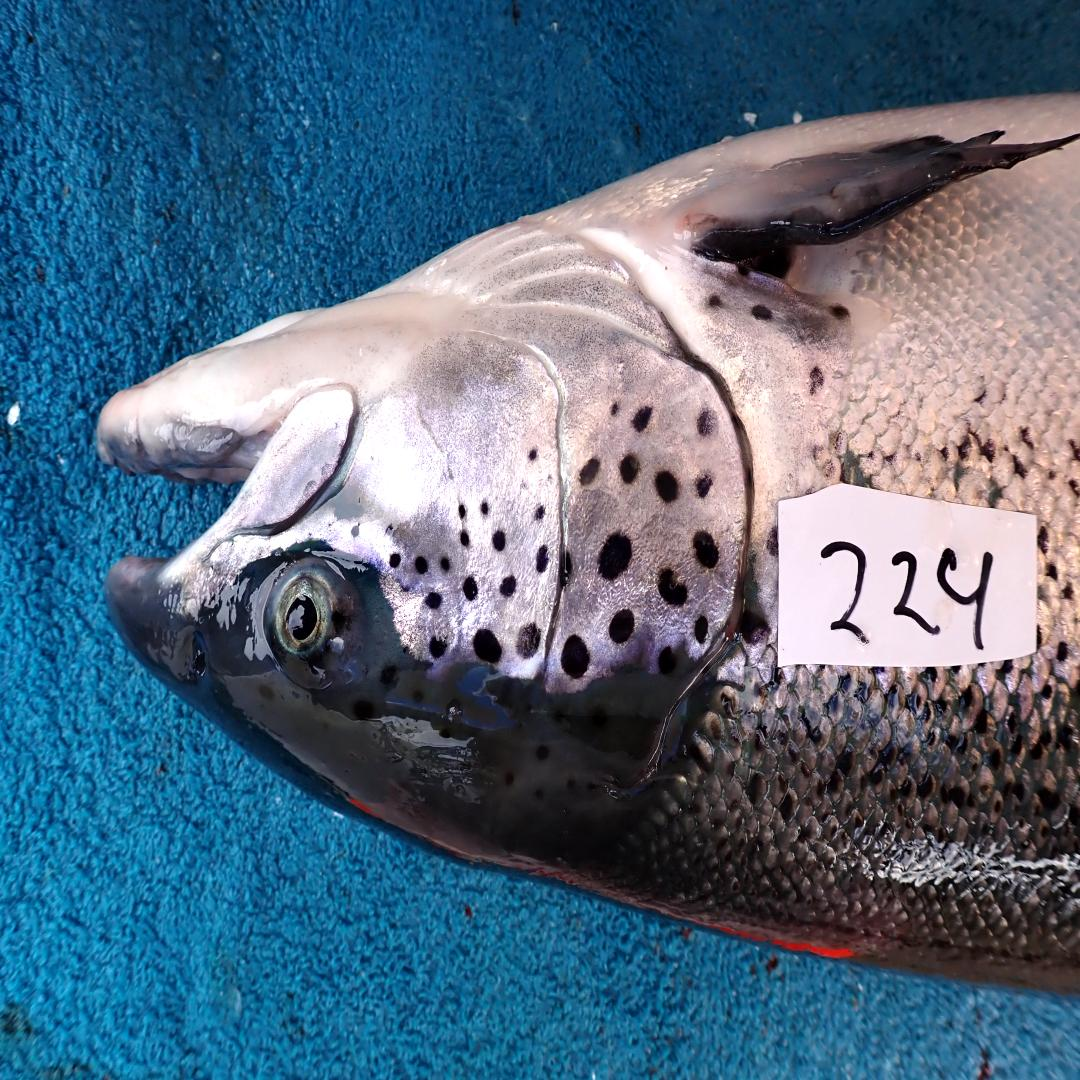roi: (359, 220, 755, 694)
